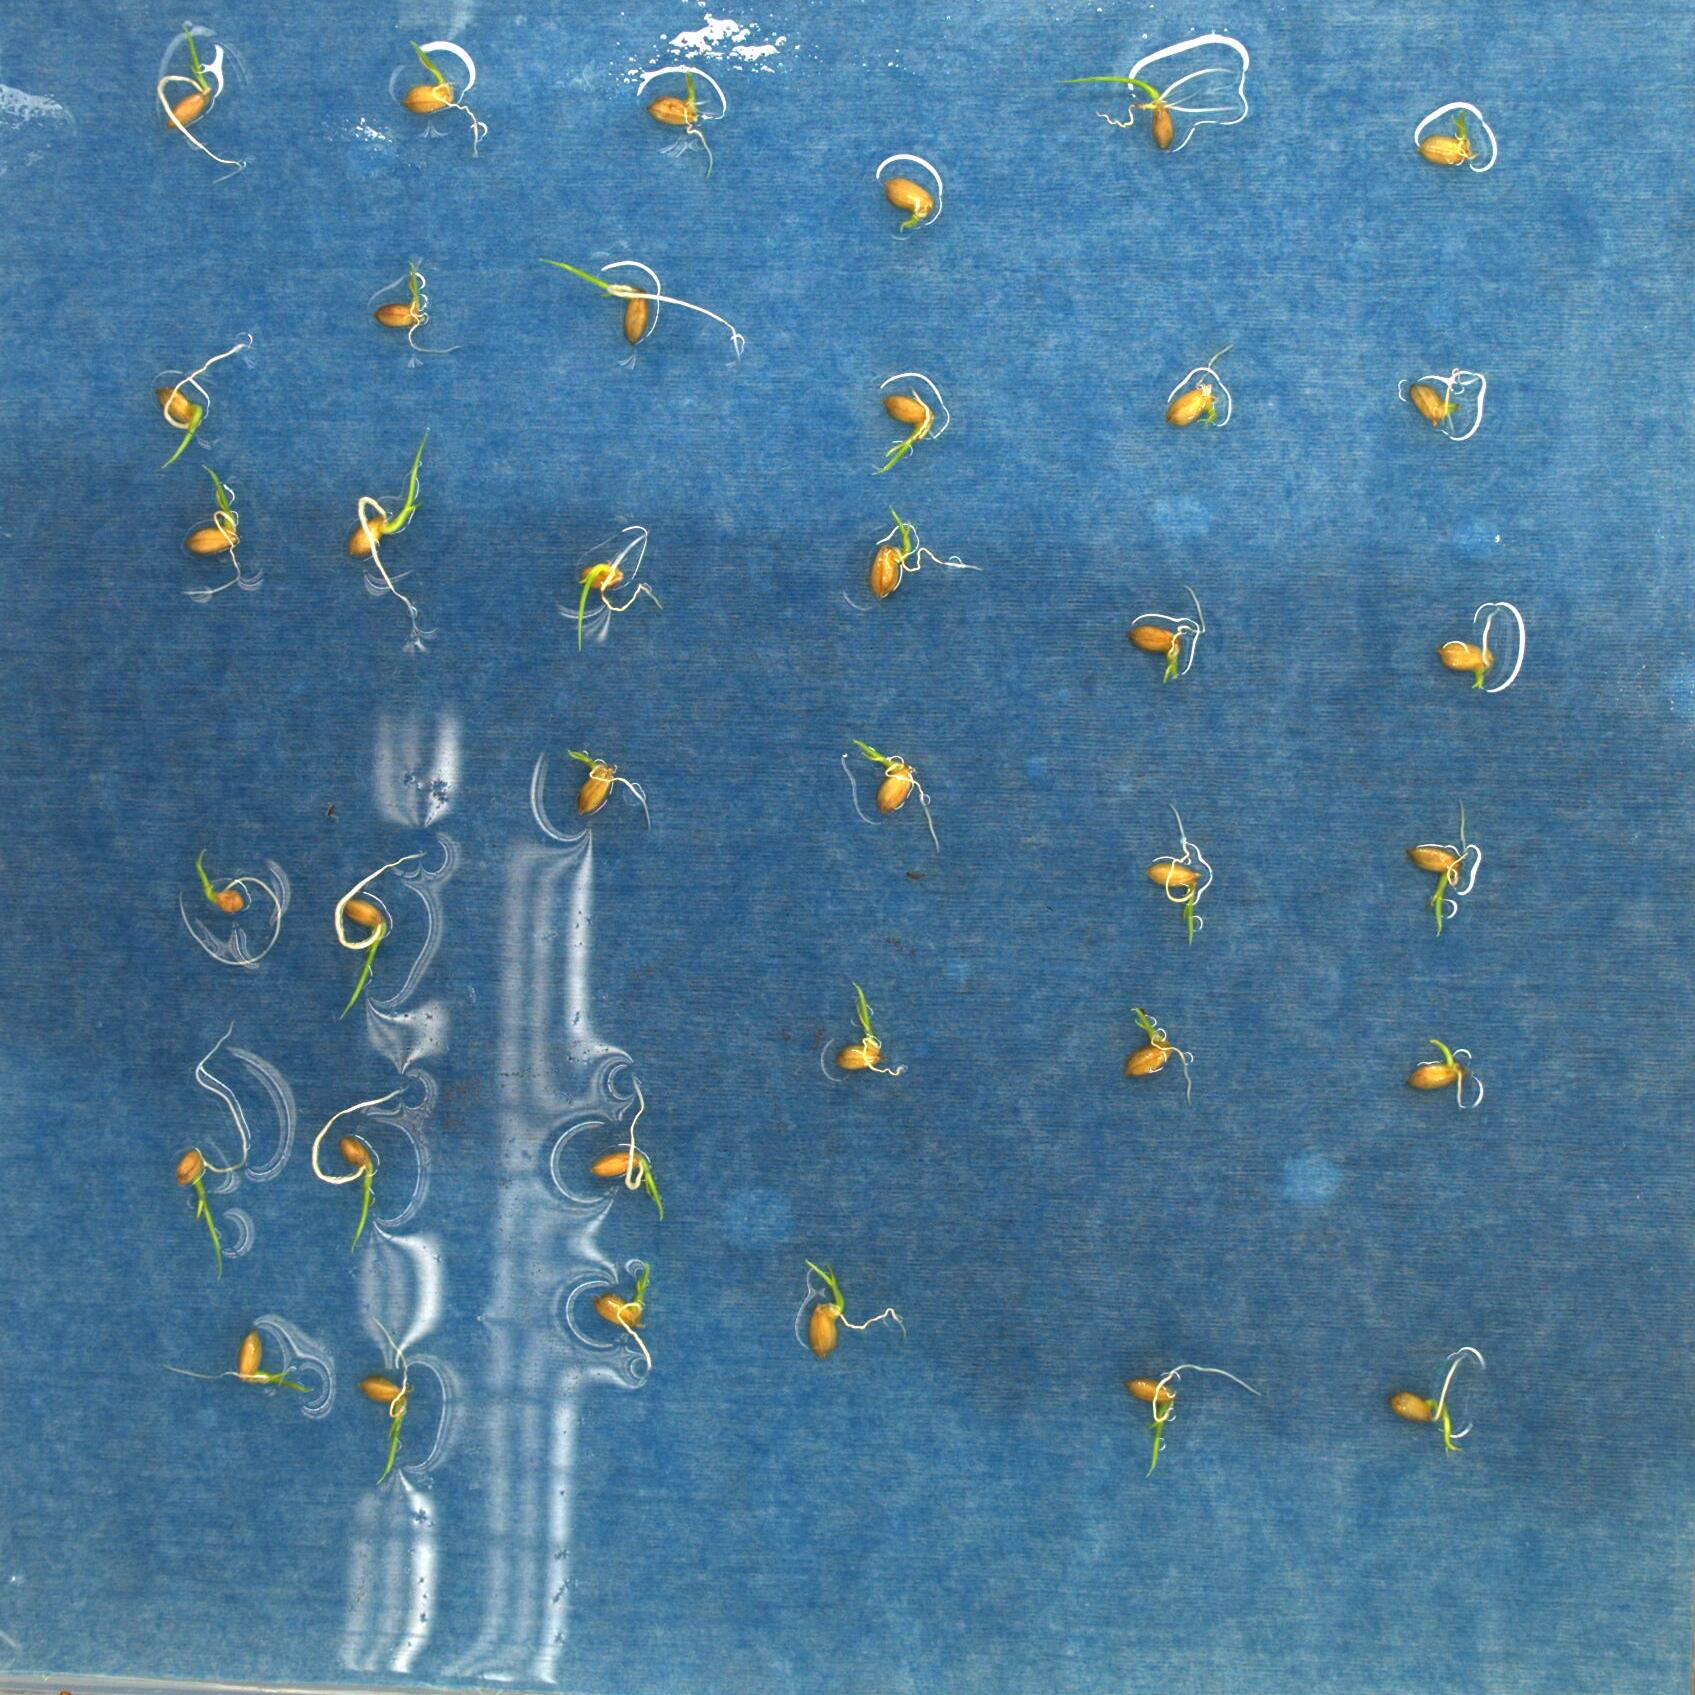not sprout: (652, 82, 717, 179), (1440, 598, 1499, 692), (1406, 369, 1479, 435), (885, 179, 931, 231)
sprout: (540, 251, 744, 362), (175, 1018, 251, 1285), (348, 425, 432, 636), (334, 851, 425, 1021), (312, 1083, 405, 1251), (1133, 1364, 1263, 1479), (151, 334, 255, 470), (1055, 71, 1234, 144), (157, 26, 247, 168), (172, 851, 275, 965), (588, 1074, 664, 1223), (872, 506, 986, 604), (801, 1256, 906, 1360), (573, 532, 663, 650), (854, 734, 941, 854), (397, 36, 481, 158), (158, 1335, 318, 1397), (1149, 806, 1214, 945), (1392, 1346, 1471, 1458), (371, 255, 459, 351), (182, 466, 244, 598), (1412, 802, 1475, 934), (560, 753, 653, 832), (365, 1313, 407, 1485), (1122, 1001, 1194, 1101), (1132, 587, 1208, 680), (843, 979, 908, 1076), (866, 385, 931, 475), (602, 1260, 652, 1375), (1167, 345, 1232, 430), (1405, 1035, 1464, 1107), (1419, 115, 1478, 168)
